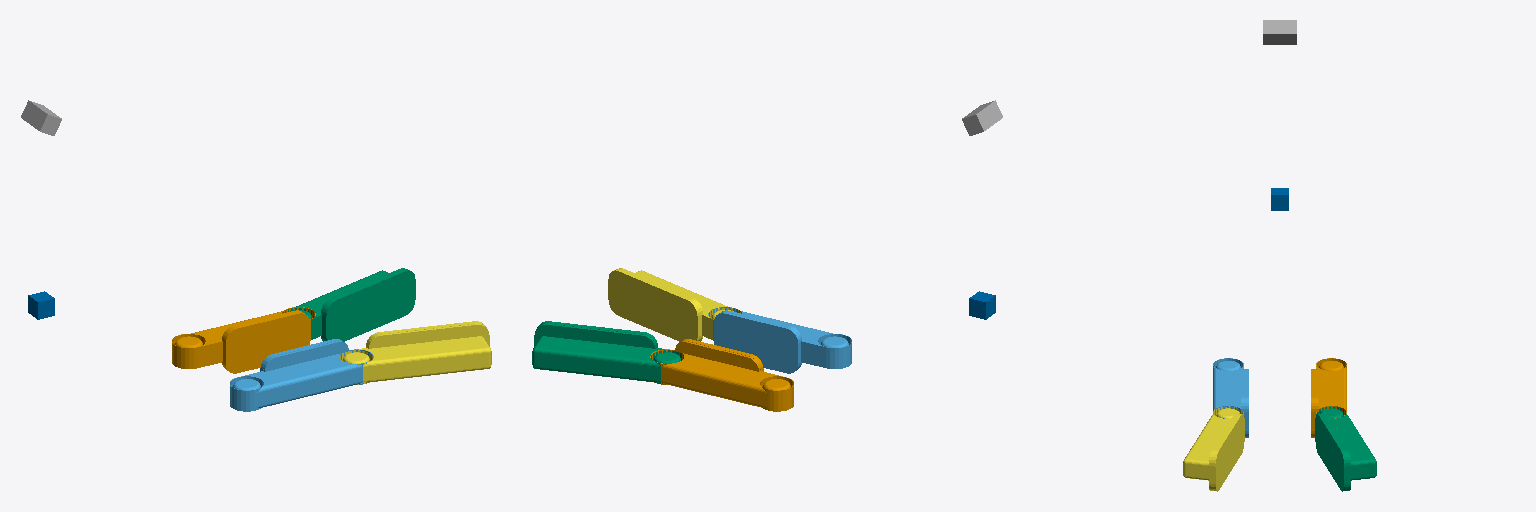
URDF robot description (ezgripper_stand_alone):
<?xml version="1.0" ?>
<!-- =================================================================================== -->
<!-- |    This document was autogenerated by xacro from ezgripper_dual_standalone.urdf.xacro | -->
<!-- |    EDITING THIS FILE BY HAND IS NOT RECOMMENDED                                 | -->
<!-- =================================================================================== -->
<robot name="ezgripper_stand_alone" xmlns:xacro="http://www.ros.org/wiki/xacro">
  <!--macro name="ezgripper" params="*origin"-->
  <!-- joints -->
  <!-- transmissions for Gazebo -->
  <gazebo>
    <plugin filename="libgazebo_ros_control.so" name="gazebo_ros_control">
    </plugin>
  </gazebo>

  <gazebo>
    <plugin name="joint_state_publisher" filename="libgazebo_ros_joint_state_publisher.so">
      <jointName>
        only_ezgripper_knuckle_1,
        only_ezgripper_knuckle_2,
        only_ezgripper_tip_joint_1,
        only_ezgripper_tip_joint_2,
        spring_force_calculation_joint,
        base_x,
        base_y,
        base_z,
        base_rx,
        base_ry,
        base_rz
      </jointName>
    </plugin>
  </gazebo>

  <!-- Add the gripper -->
  <!-- links -->
  <link name="world"/>

  <link name="ezgripper_xy">
    <inertial>
      <origin xyz="0 0 0" rpy="0 0 0"/>
      <mass value="1"/>
      <inertia
        ixx="1.0" ixy="0.0" ixz="0.0"
        iyy="1.0" iyz="0.0"
        izz="1.0"/>
    </inertial>
  </link>
  <link name="ezgripper_yz">
    <inertial>
      <origin xyz="0 0 0" rpy="0 0 0"/>
      <mass value="1"/>
      <inertia
        ixx="1.0" ixy="0.0" ixz="0.0"
        iyy="1.0" iyz="0.0"
        izz="1.0"/>
    </inertial>
  </link>
  <link name="ezgripper_z_rx">
    <inertial>
      <origin xyz="0 0 0" rpy="0 0 0"/>
      <mass value="1"/>
      <inertia
        ixx="1.0" ixy="0.0" ixz="0.0"
        iyy="1.0" iyz="0.0"
        izz="1.0"/>
    </inertial>
  </link>
  <link name="ezgripper_rx_ry">
    <inertial>
      <origin xyz="0 0 0" rpy="0 0 0"/>
      <mass value="1"/>
      <inertia
        ixx="1.0" ixy="0.0" ixz="0.0"
        iyy="1.0" iyz="0.0"
        izz="1.0"/>
    </inertial>
  </link>
  <link name="ezgripper_ry_rz">
    <inertial>
      <origin xyz="0 0 0" rpy="0 0 0"/>
      <mass value="1"/>
      <inertia
        ixx="1.0" ixy="0.0" ixz="0.0"
        iyy="1.0" iyz="0.0"
        izz="1.0"/>
    </inertial>
  </link>

  <joint name="base_x" type="prismatic">
    <origin rpy="0 0 0" xyz="0.0 0.0 0"/>
    <parent link="world"/>
    <child link="ezgripper_xy"/>
    <axis xyz="1 0 0"/>
    <limit effort="100" lower="-10" upper="10" velocity="2"/>
  </joint>
  <joint name="base_y" type="prismatic">
    <origin rpy="0 0 0" xyz="0.0 0.0 0"/>
    <parent link="ezgripper_xy"/>
    <child link="ezgripper_yz"/>
    <axis xyz="0 1 0"/>
    <limit effort="100" lower="-10" upper="10" velocity="2"/>
  </joint>
  <joint name="base_z" type="prismatic">
    <origin rpy="0 0 0" xyz="0.0 0.0 0"/>
    <parent link="ezgripper_yz"/>
    <child link="ezgripper_z_rx"/>
    <axis xyz="0 0 1"/>
    <limit effort="100" lower="-10" upper="10" velocity="2"/>
  </joint>
  <joint name="base_rx" type="revolute">
    <origin rpy="0 0 0" xyz="0.0 0.0 0"/>
    <parent link="ezgripper_z_rx"/>
    <child link="ezgripper_rx_ry"/>
    <axis xyz="1 0 0"/>
    <limit effort="100" lower="-3.1415" upper="3.1415" velocity="2"/>
  </joint>
  <joint name="base_ry" type="revolute">
    <origin rpy="0 0 0" xyz="0.0 0.0 0"/>
    <parent link="ezgripper_rx_ry"/>
    <child link="ezgripper_ry_rz"/>
    <axis xyz="0 1 0"/>
    <limit effort="100" lower="-3.1415" upper="3.1415" velocity="2"/>
  </joint>
  <joint name="base_rz" type="revolute">
    <origin rpy="0 0 0" xyz="0 0 0"/>
    <parent link="ezgripper_ry_rz"/>
    <child link="only_ezgripper_palm_link"/>
    <axis xyz="0 0 1"/>
    <limit effort="100" lower="-3.1415" upper="3.1415" velocity="2"/>
  </joint>

  <link name="only_ezgripper_palm_link">
    <visual>
      <origin rpy="0 0 0" xyz="0 0 0"/>
      <geometry>
        <mesh filename="package://ezgripper_driver/meshes/visual/SAKE_Palm_Dual.stl"/>
      </geometry>
    </visual>
    <collision>
      <origin rpy="0 0 0" xyz="0 0 0"/>
      <geometry>
        <mesh filename="package://ezgripper_driver/meshes/collision/SAKE_Palm_Dual.stl"/>
      </geometry>
    </collision>
    <inertial>
      <origin rpy="0 0 0" xyz="0 0 0"/>
      <mass value=".3"/>
      <inertia ixx="0.01" ixy="0.0" ixz="0.0" iyy="0.01" iyz="0.0" izz="0.01"/>
    </inertial>
  </link>

  <link name="only_ezgripper_kinect_link">
    <inertial>
      <origin xyz="0 0 0" />
      <mass value="0.01" />
      <inertia  ixx="0.01" ixy="0.0"  ixz="0.0"  iyy="0.01"  iyz="0.0"  izz="0.01" />
    </inertial>
    <visual>
      <origin xyz="0 0 0" />
      <geometry>
        <box size="0.01 0.02 0.01" />
      </geometry>
    </visual>
  </link>

  <joint name="only_ezgripper_kinect_link" type="fixed">
    <origin rpy="0 0.5 0" xyz="0 0 0.17"/>
    <parent link="only_ezgripper_palm_link"/>
    <child link="only_ezgripper_kinect_link"/>
  </joint>

  <gazebo reference="only_ezgripper_kinect_link">
    <material>Gazebo/Red</material>
  </gazebo>

  <link name="only_ezgripper_finger_1">
    <visual>
      <origin rpy="0 0 0" xyz="0 0 0"/>
      <geometry>
        <mesh filename="package://ezgripper_driver/meshes/visual/SAKE_Finger_Link1.stl"/>
      </geometry>
    </visual>
    <collision>
      <origin rpy="0 0 0" xyz="0 0 0"/>
      <geometry>
        <mesh filename="package://ezgripper_driver/meshes/collision/SAKE_Finger_Link1.stl"/>
      </geometry>
    </collision>
    <inertial>
      <origin rpy="0 0 0" xyz="-0.03121 0 -0.00256"/>
      <mass value=".025"/>
      <inertia ixx="0.01" ixy="0.0" ixz="0.0" iyy="0.01" iyz="0.0" izz="0.01"/>
    </inertial>
  </link>

  <link name="only_ezgripper_finger_2">
    <visual>
      <origin rpy="0 0 0" xyz="0 0 0"/>
      <geometry>
        <mesh filename="package://ezgripper_driver/meshes/visual/SAKE_Finger_Link1.stl"/>
      </geometry>
    </visual>
    <collision>
      <origin rpy="0 0 0" xyz="0 0 0"/>
      <geometry>
        <mesh filename="package://ezgripper_driver/meshes/collision/SAKE_Finger_Link1.stl"/>
      </geometry>
    </collision>
    <inertial>
      <origin rpy="0 0 0" xyz="-0.03121 0 -0.00256"/>
      <mass value=".025"/>
      <inertia ixx="0.01" ixy="0.0" ixz="0.0" iyy="0.01" iyz="0.0" izz="0.01"/>
    </inertial>
  </link>

  <joint name="only_ezgripper_knuckle_1" type="revolute">
    <parent link="only_ezgripper_palm_link"/>
    <child link="only_ezgripper_finger_1"/>
    <origin rpy="1.5708 0 3.14159" xyz="0.1056 0.03 0"/>
    <axis xyz="0 1 0"/>
    <limit effort="1" lower="-.27" upper="1.57075" velocity="3.67"/>
    <dynamics damping="0.1" />
  </joint>

  <joint name="only_ezgripper_knuckle_2" type="revolute">
    <parent link="only_ezgripper_palm_link"/>
    <child link="only_ezgripper_finger_2"/>
    <origin rpy="-1.5708 0 3.14159" xyz="0.1056 -0.03 0"/>
    <axis xyz="0 1 0"/>
    <limit effort="1" lower="-.27" upper="1.57075" velocity="3.67"/>
    <dynamics damping="0.1" />
  </joint>

  <link name="only_ezgripper_finger_tip_1">
    <visual>
      <origin rpy="0 0 0" xyz="0 0 0"/>
      <geometry>
        <mesh filename="package://ezgripper_driver/meshes/visual/SAKE_Finger_Link2.stl"/>
      </geometry>
    </visual>
    <collision>
      <origin rpy="0 0 0" xyz="0 0 0"/>
      <geometry>
        <mesh filename="package://ezgripper_driver/meshes/collision/SAKE_Finger_Link2.stl"/>
      </geometry>
    </collision>
    <inertial>
      <origin rpy="0 0 0" xyz="-0.03108 0 -0.00325"/>
      <mass value=".025"/>
      <inertia ixx="0.01" ixy="0.0" ixz="0.0" iyy="0.01" iyz="0.0" izz="0.01"/>
    </inertial>
  </link>

  <link name="only_ezgripper_finger_tip_2">
    <visual>
      <origin rpy="0 0 0" xyz="0 0 0"/>
      <geometry>
        <mesh filename="package://ezgripper_driver/meshes/visual/SAKE_Finger_Link2.stl"/>
      </geometry>
    </visual>
    <collision>
      <origin rpy="0 0 0" xyz="0 0 0"/>
      <geometry>
        <mesh filename="package://ezgripper_driver/meshes/collision/SAKE_Finger_Link2.stl"/>
      </geometry>
    </collision>
    <inertial>
      <origin rpy="0 0 0" xyz="-0.03108 0 -0.00325"/>
      <mass value=".025"/>
      <inertia ixx="0.01" ixy="0.0" ixz="0.0" iyy="0.01" iyz="0.0" izz="0.01"/>
    </inertial>
  </link>

  <joint name="only_ezgripper_tip_joint_1" type="revolute">
    <parent link="only_ezgripper_finger_1"/>
    <child link="only_ezgripper_finger_tip_1"/>
    <origin rpy="0 0.26 0" xyz="-0.0655 0 0"/>
    <axis xyz="0 1 0"/>
    <limit effort="1" lower="-1.57" upper="0.26" velocity="3.67"/>
    <dynamics damping="0.1" />
  </joint>

  <joint name="only_ezgripper_tip_joint_2" type="revolute">
    <parent link="only_ezgripper_finger_2"/>
    <child link="only_ezgripper_finger_tip_2"/>
    <origin rpy="0 0.26 0" xyz="-0.0655 0 0"/>
    <axis xyz="0 1 0"/>
    <limit effort="1" lower="-1.57" upper="0.26" velocity="3.67"/>
    <dynamics damping="0.1" />
  </joint>

  <link name="spring_force_calculation_link">
    <visual>
      <origin rpy="0 0 0" xyz="0 0 0"/>
      <geometry>
        <box size="0.01 0.01 0.01">
        </box>
      </geometry>
    </visual>
    <inertial>
      <origin rpy="0 0 0" xyz="0.005 0.005 0.005"/>
      <mass value=".05"/>
      <inertia ixx="0.01" ixy="0.0" ixz="0.0" iyy="0.01" iyz="0.0" izz="0.01"/>
    </inertial>
  </link>

  <joint name="spring_force_calculation_joint" type="revolute">
    <parent link="only_ezgripper_palm_link"/>
    <child link="spring_force_calculation_link"/>
    <origin rpy="0 0 0" xyz="0 0 0.063"/>
    <axis xyz="0 1 0"/>
    <limit effort="1" lower="-.27" upper="1.57075" velocity="3.67"/>
    <dynamics damping="0.1" />
  </joint>

  <transmission name="only_ezgripper_trans_1">
    <type>transmission_interface/SimpleTransmission</type>
    <joint name="only_ezgripper_knuckle_1">
      <hardwareInterface>EffortJointInterface</hardwareInterface>
    </joint>
    <actuator name="only_ezgripper_motor1">
      <mechanicalReduction>1</mechanicalReduction>
    </actuator>
  </transmission>

  <transmission name="only_ezgripper_trans_2">
    <type>transmission_interface/SimpleTransmission</type>
    <joint name="only_ezgripper_knuckle_2">
      <hardwareInterface>EffortJointInterface</hardwareInterface>
    </joint>
    <actuator name="only_ezgripper_motor2">
      <mechanicalReduction>1</mechanicalReduction>
    </actuator>
  </transmission>

  <transmission name="only_ezgripper_trans_3">
    <type>transmission_interface/SimpleTransmission</type>
    <joint name="only_ezgripper_tip_joint_1">
      <hardwareInterface>EffortJointInterface</hardwareInterface>
    </joint>
    <actuator name="only_ezgripper_motor3">
      <mechanicalReduction>1</mechanicalReduction>
    </actuator>
  </transmission>

  <transmission name="only_ezgripper_trans_4">
    <type>transmission_interface/SimpleTransmission</type>
    <joint name="only_ezgripper_tip_joint_2">
      <hardwareInterface>EffortJointInterface</hardwareInterface>
    </joint>
    <actuator name="only_ezgripper_motor4">
      <mechanicalReduction>1</mechanicalReduction>
    </actuator>
  </transmission>

  <transmission name="only_ezgripper_trans_5">
    <type>transmission_interface/SimpleTransmission</type>
    <joint name="spring_force_calculation_joint">
      <hardwareInterface>EffortJointInterface</hardwareInterface>
    </joint>
    <actuator name="only_ezgripper_motor5">
      <mechanicalReduction>1</mechanicalReduction>
    </actuator>
  </transmission>

  <transmission name="only_ezgripper_trans_x">
    <type>transmission_interface/SimpleTransmission</type>
    <joint name="base_x">
      <hardwareInterface>EffortJointInterface</hardwareInterface>
    </joint>
    <actuator name="only_ezgripper_motor6">
      <mechanicalReduction>1</mechanicalReduction>
    </actuator>
  </transmission>

  <transmission name="only_ezgripper_trans_y">
    <type>transmission_interface/SimpleTransmission</type>
    <joint name="base_y">
      <hardwareInterface>EffortJointInterface</hardwareInterface>
    </joint>
    <actuator name="only_ezgripper_motor6">
      <mechanicalReduction>1</mechanicalReduction>
    </actuator>
  </transmission>

  <transmission name="only_ezgripper_trans_z">
    <type>transmission_interface/SimpleTransmission</type>
    <joint name="base_z">
      <hardwareInterface>EffortJointInterface</hardwareInterface>
    </joint>
    <actuator name="only_ezgripper_motor6">
      <mechanicalReduction>1</mechanicalReduction>
    </actuator>
  </transmission>

  <transmission name="only_ezgripper_trans_rx">
    <type>transmission_interface/SimpleTransmission</type>
    <joint name="base_rx">
      <hardwareInterface>EffortJointInterface</hardwareInterface>
    </joint>
    <actuator name="only_ezgripper_motor6">
      <mechanicalReduction>1</mechanicalReduction>
    </actuator>
  </transmission>

  <transmission name="only_ezgripper_trans_ry">
    <type>transmission_interface/SimpleTransmission</type>
    <joint name="base_ry">
      <hardwareInterface>EffortJointInterface</hardwareInterface>
    </joint>
    <actuator name="only_ezgripper_motor6">
      <mechanicalReduction>1</mechanicalReduction>
    </actuator>
  </transmission>

  <transmission name="only_ezgripper_trans_rz">
    <type>transmission_interface/SimpleTransmission</type>
    <joint name="base_rz">
      <hardwareInterface>EffortJointInterface</hardwareInterface>
    </joint>
    <actuator name="only_ezgripper_motor6">
      <mechanicalReduction>1</mechanicalReduction>
    </actuator>
  </transmission>

  <!-- https://github.com/qboticslabs/mastering_ros_robot_description_pkg/blob/master/urdf/seven_dof_arm.urdf -->
  <gazebo reference="only_ezgripper_kinect_link">
    <!-- Depth (IR) -->
    <sensor name="rgbd_camera_frame_sensor" type="depth">
      <always_on>true</always_on>
      <update_rate>6.0</update_rate>
      <camera>
        <horizontal_fov>1.01229096616</horizontal_fov>
        <image>
          <format>R8G8B8</format>
          <width>320</width>
          <height>240</height>
        </image>
        <clip>
          <near>0.05</near>
          <far>4.0</far>
        </clip>
      </camera>
      <plugin filename="libgazebo_ros_openni_kinect.so" name="rgbd_camera_frame_controller">
        <alwaysOn>true</alwaysOn>
        <updateRate>6.0</updateRate>
        <cameraName>camera</cameraName>
        <imageTopicName>ir/image_raw</imageTopicName>
        <cameraInfoTopicName>ir/camera_info</cameraInfoTopicName>
        <depthImageTopicName>depth_registered/sw_registered/image_rect_raw</depthImageTopicName>
        <depthImageCameraInfoTopicName>depth/camera_info</depthImageCameraInfoTopicName>
        <pointCloudTopicName>/overhead_kinect1/depth_registered/points</pointCloudTopicName>
        <frameName>kinect_frame</frameName>
        <pointCloudCutoff>0.05</pointCloudCutoff>
        <pointCloudCutoffMax>5</pointCloudCutoffMax>
        <rangeMax>4.0</rangeMax>
        <!-- Distortion parameters not supported in gazebo 1.9.* plugins -->
        <!--distortionK1>0.00000001</distortionK1>
          <distortionK2>0.00000001</distortionK2>
          <distortionK3>0.00000001</distortionK3>
          <distortionT1>0.00000001</distortionT1>
          <distortionT2>0.00000001</distortionT2-->
      </plugin>
    </sensor>
  </gazebo>


</robot>

--- Render facts (derived) ---
3 views of the same robot in one strip: view 1: azimuth 30°, elevation 25°; view 2: azimuth 150°, elevation 25°; view 3: azimuth 270°, elevation 25° (orthographic).
Model ezgripper_stand_alone with 13 links and 12 joints (8 revolute, 3 prismatic, 1 fixed), rooted at world, posed all joints at 0.
Visible links, largest first — view 1: only_ezgripper_finger_tip_2, only_ezgripper_finger_2, only_ezgripper_finger_1, only_ezgripper_finger_tip_1, only_ezgripper_kinect_link, spring_force_calculation_link; view 2: only_ezgripper_finger_tip_1, only_ezgripper_finger_1, only_ezgripper_finger_2, only_ezgripper_finger_tip_2, only_ezgripper_kinect_link, spring_force_calculation_link; view 3: only_ezgripper_finger_tip_1, only_ezgripper_finger_tip_2, only_ezgripper_finger_1, only_ezgripper_finger_2, only_ezgripper_kinect_link.
Link boxes in pixels (x1,y1,x2,y2): only_ezgripper_finger_tip_2: [340, 321, 491, 384]; only_ezgripper_finger_2: [230, 339, 373, 411]; only_ezgripper_finger_1: [172, 307, 315, 373]; only_ezgripper_finger_tip_1: [283, 268, 415, 341]; only_ezgripper_kinect_link: [21, 100, 61, 135]; spring_force_calculation_link: [28, 291, 54, 319]; only_ezgripper_finger_tip_1: [532, 321, 683, 384]; only_ezgripper_finger_1: [650, 339, 793, 411]; only_ezgripper_finger_2: [708, 307, 851, 373]; only_ezgripper_finger_tip_2: [608, 268, 740, 341]; only_ezgripper_kinect_link: [962, 100, 1002, 135]; spring_force_calculation_link: [969, 291, 995, 319]; only_ezgripper_finger_tip_1: [1315, 406, 1376, 491]; only_ezgripper_finger_tip_2: [1183, 406, 1244, 491]; only_ezgripper_finger_1: [1311, 358, 1346, 437]; only_ezgripper_finger_2: [1213, 358, 1248, 437]; only_ezgripper_kinect_link: [1263, 20, 1296, 44].
Bounding box of the posed robot: 0.2521 × 0.1127 × 0.1896 m (x, y, z).
4 mesh visuals loaded from 3 distinct referenced files (2 binary STL); not drawn: 1 (reference not matched to a file when rendering).